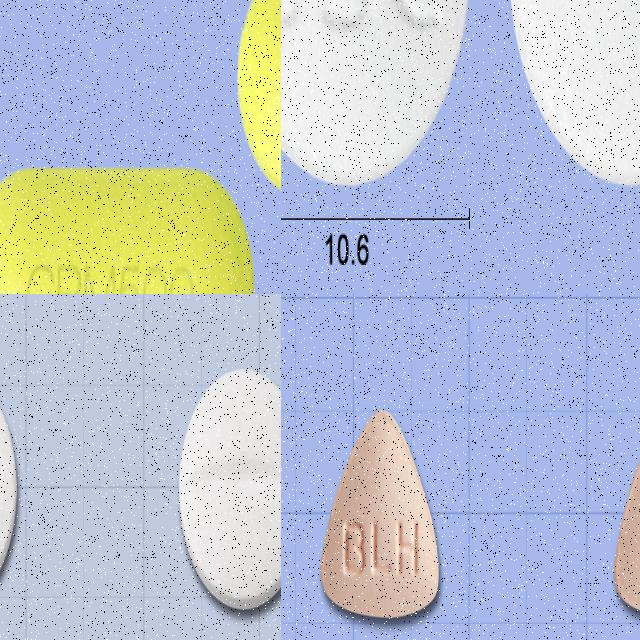Baracle: (318, 406, 446, 628), (611, 405, 640, 625)
Ciprofloxacin HCl Tab- Unimed: (175, 364, 281, 616)
Ciprofloxacin Tab- Samsung: (281, 0, 476, 189), (506, 0, 640, 195)
Crama: (0, 164, 255, 294)
